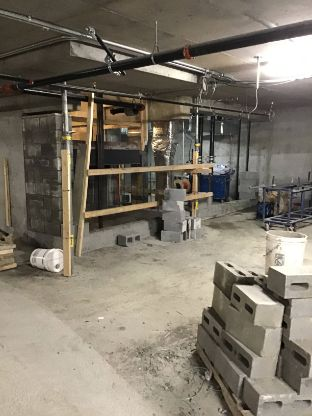Duct: (194, 112, 244, 139)
